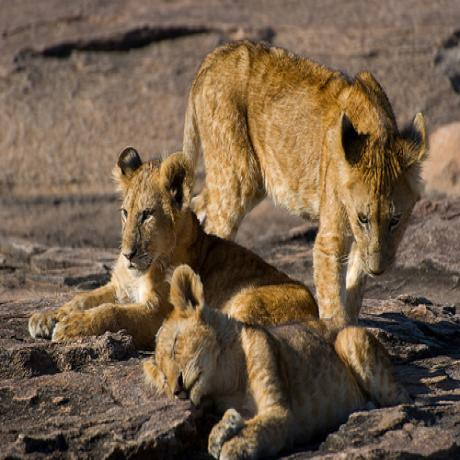Lion: (182, 34, 425, 304), (32, 142, 321, 336), (145, 262, 415, 458)
